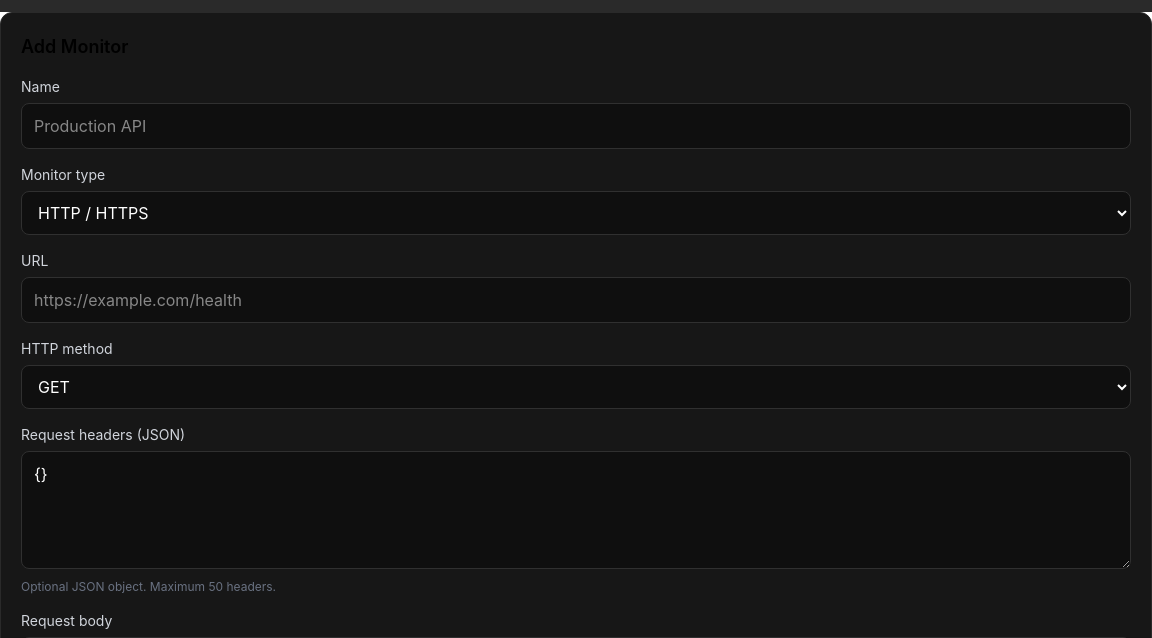
it: MonitorForm - G5.3 heartbeat grace period › rejects invalid heartbeat grace period -1
The width and height of the screenshot is (1152, 638).
Type "Payment Worker Heartbeat" into the field labelled "Name" at (576, 126), box left=21, top=103, right=1131, bottom=149
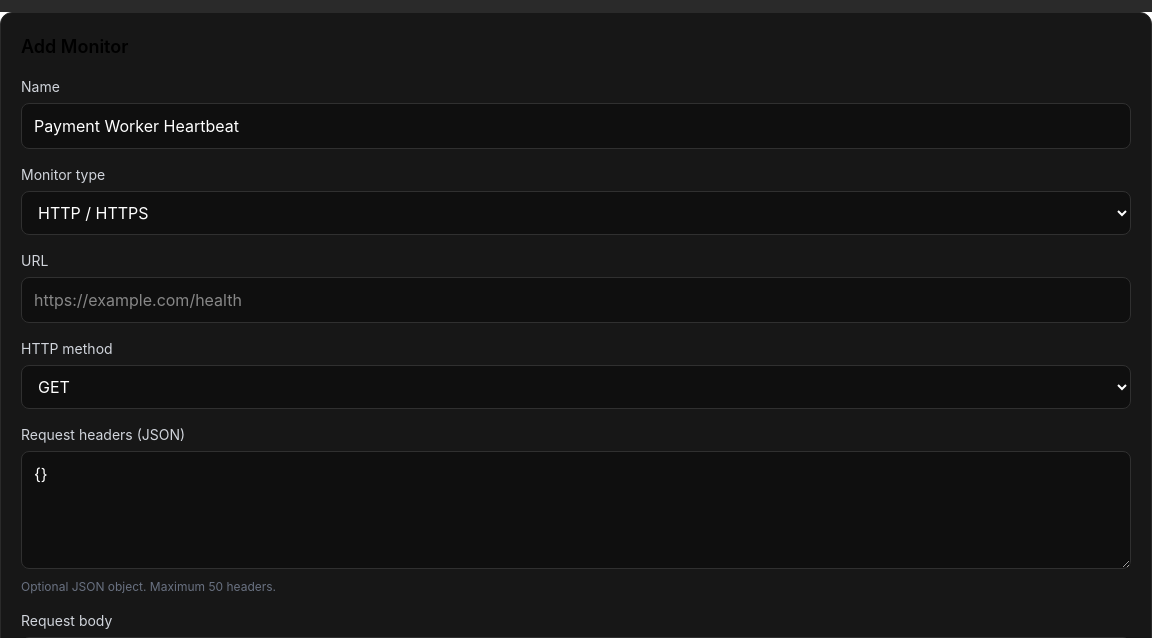
Select "Heartbeat (push check-in)" in the dropdown labelled "Monitor type" at (576, 213), box left=21, top=191, right=1131, bottom=235
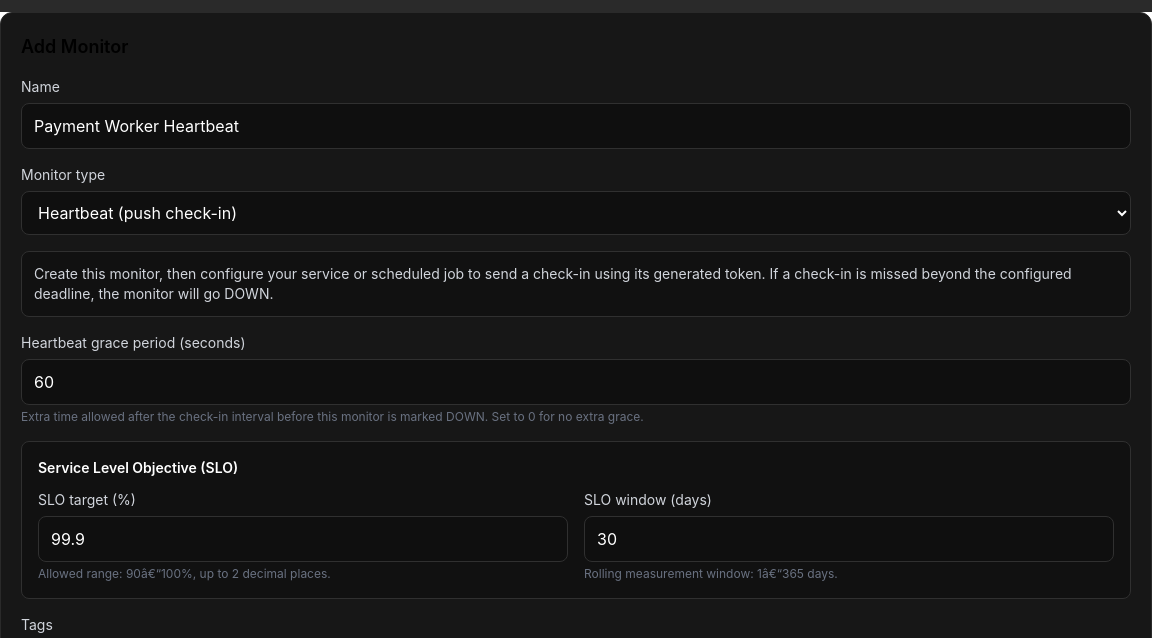
Replace the text in the number field labelled "Heartbeat grace period (seconds)" with "-1" at (576, 382), box left=21, top=359, right=1131, bottom=405
(page scrolled)
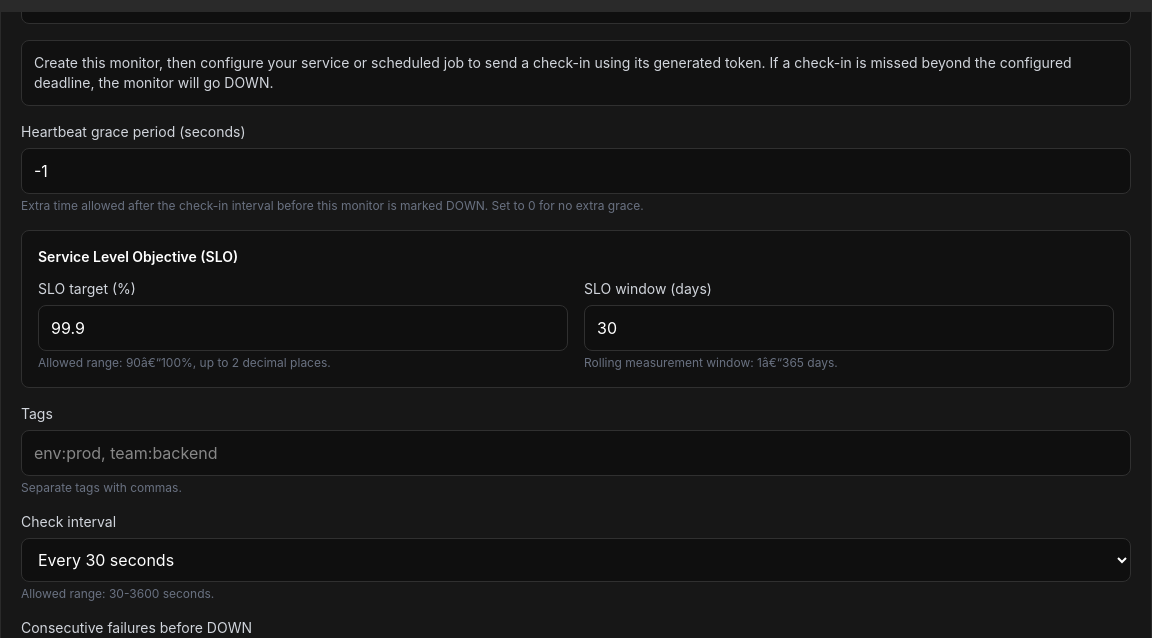
Submit the form named "Create Monitor"
(page scrolled)
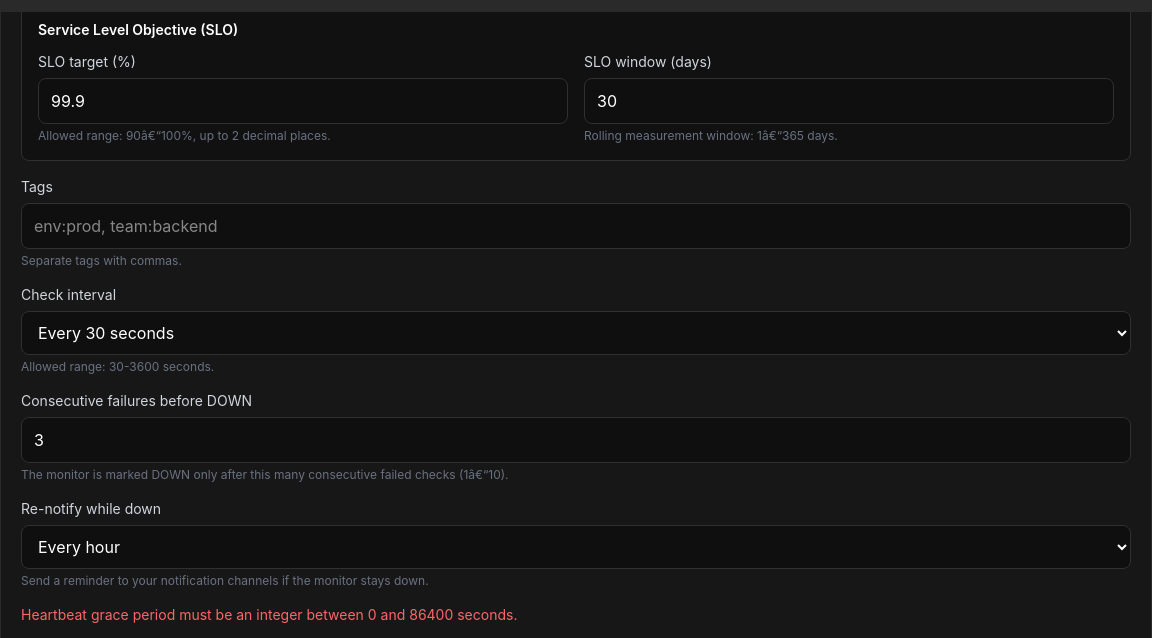
Check: the message reads "Heartbeat grace period must be an integer between 0 and 86400 seconds.", box left=21, top=606, right=517, bottom=623
